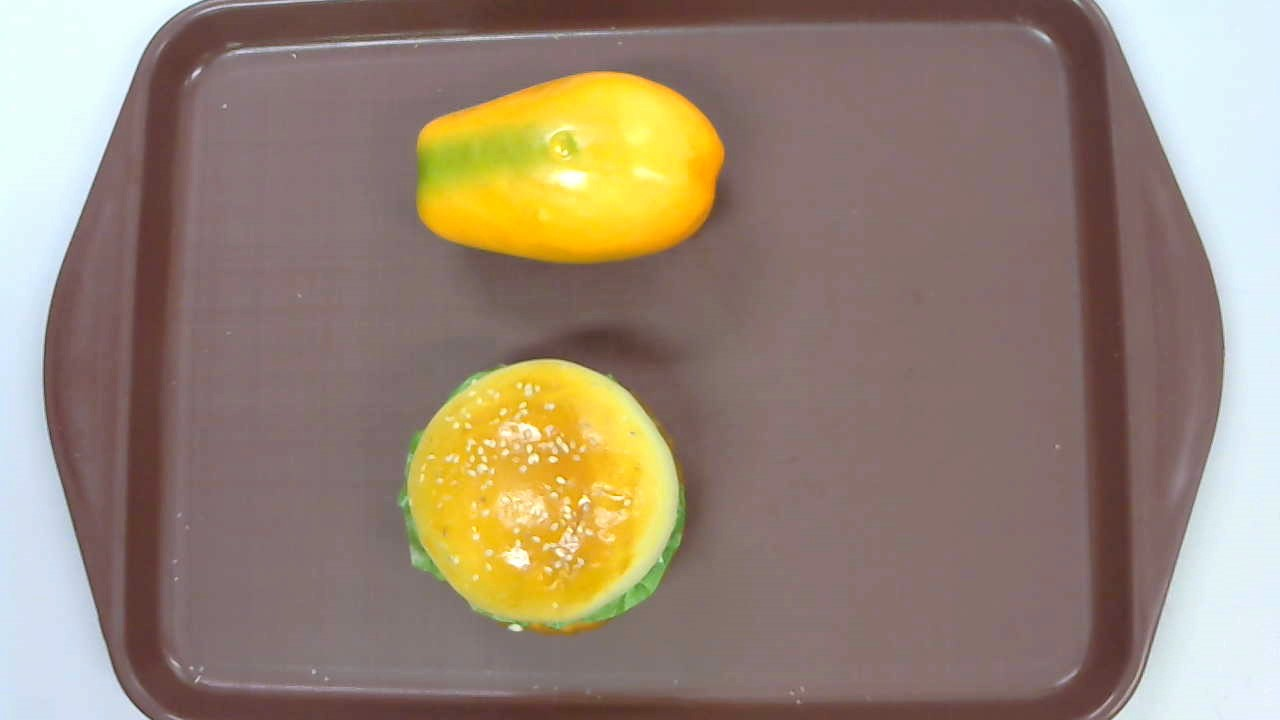hamburger: (397, 358, 688, 636)
papya: (413, 72, 726, 266)
